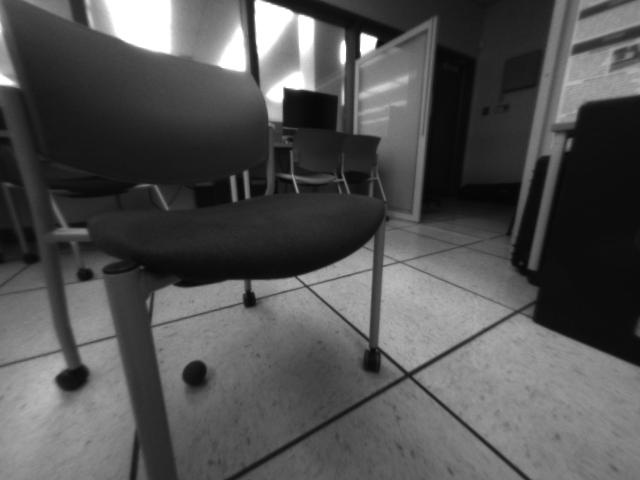dogtoy: (173, 351, 217, 391)
